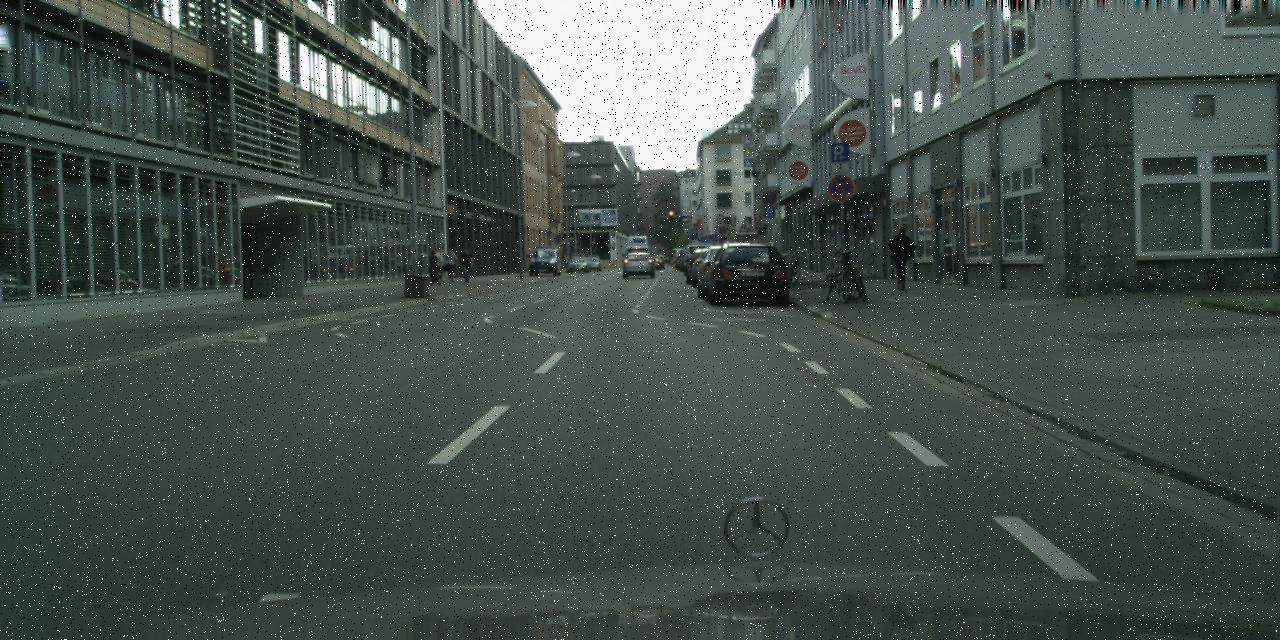ped: (888, 227, 914, 289), (429, 248, 444, 286), (459, 247, 473, 282), (444, 248, 457, 282), (668, 251, 674, 267)
